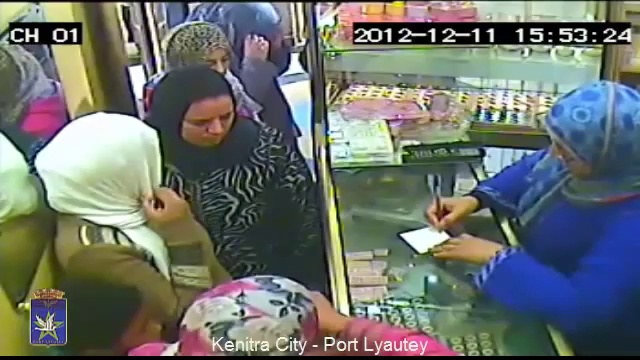face: (181, 108, 237, 150)
